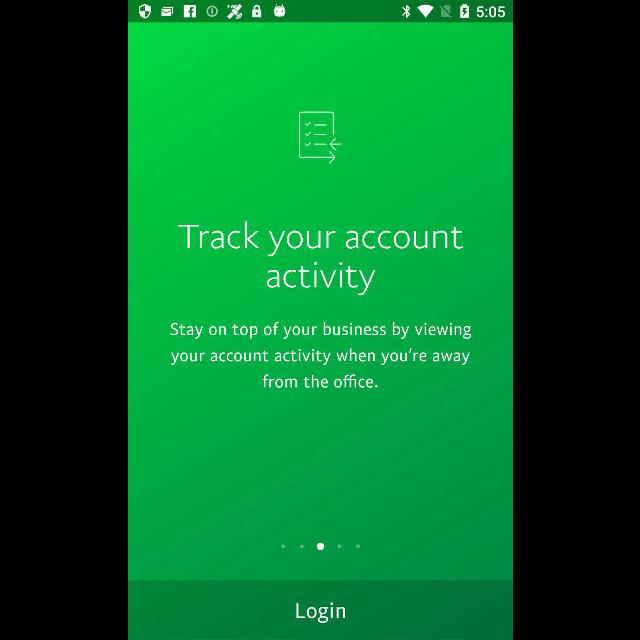icon: (298, 112, 340, 164)
pageindicator: (280, 542, 360, 550)
text: (178, 221, 462, 295), (169, 322, 471, 388)
textbutton: (128, 580, 512, 640)
uppertaskbar: (128, 1, 512, 23)
